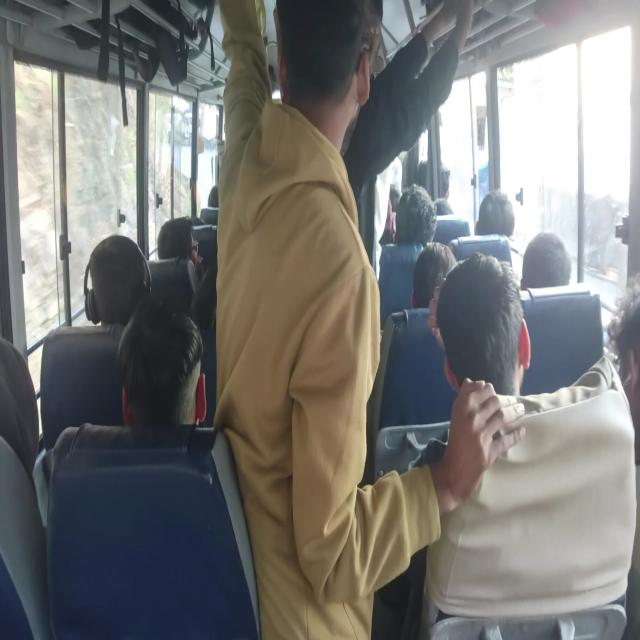person: (123, 316, 204, 455), (304, 0, 371, 144), (0, 343, 40, 568), (448, 260, 510, 356), (530, 228, 580, 344), (606, 285, 640, 439), (88, 247, 150, 320), (395, 119, 451, 195), (410, 240, 461, 310), (471, 184, 514, 253), (196, 266, 232, 342), (364, 0, 391, 86), (403, 189, 436, 252), (429, 182, 466, 231), (166, 213, 202, 261), (193, 174, 216, 208)
